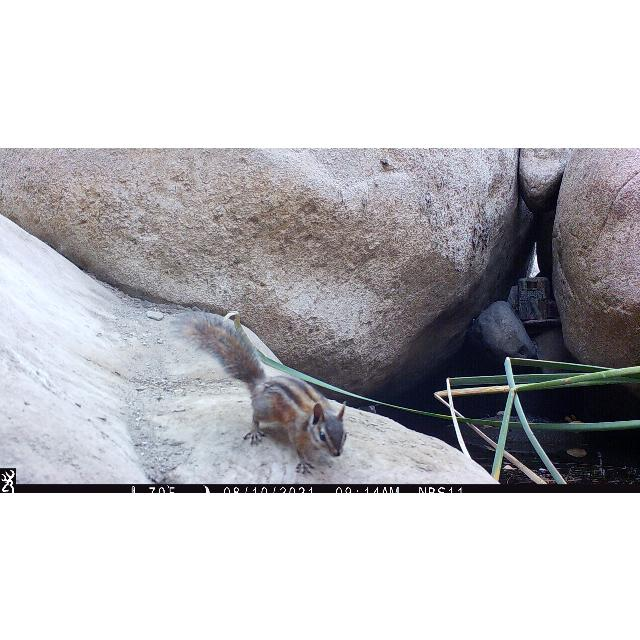animals: (171, 308, 351, 474)
